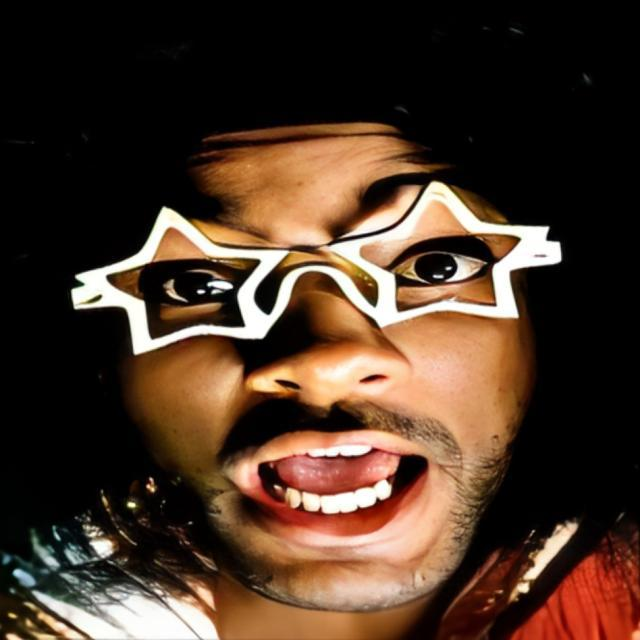fear: (112, 113, 536, 612)
